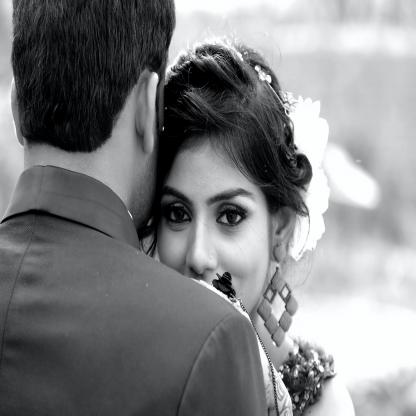Eye: (164, 202, 192, 230), (216, 204, 247, 228)
Nose: (187, 217, 217, 274)
